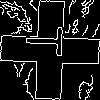T: (25, 25, 72, 57)
